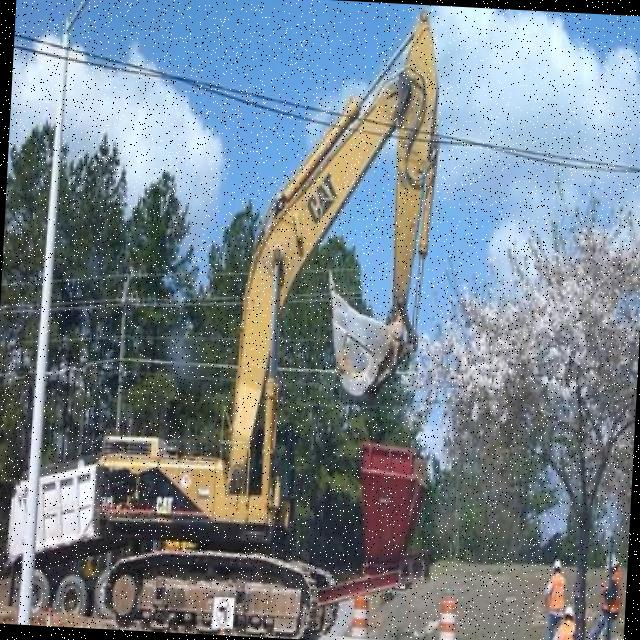Dump Truck: (1, 444, 114, 618)
Excavator: (82, 0, 445, 640)
